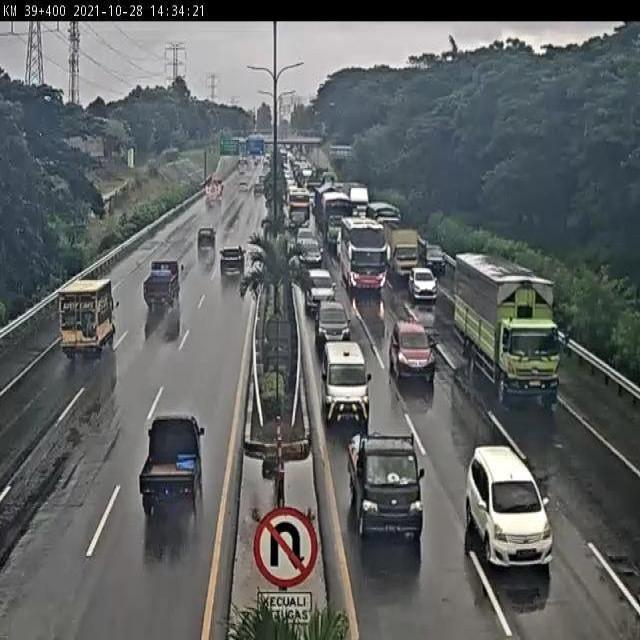car: (460, 441, 559, 572), (350, 432, 426, 544), (139, 411, 205, 513), (318, 341, 371, 431), (389, 318, 435, 390), (317, 292, 344, 337), (409, 268, 438, 307), (305, 260, 332, 301), (218, 245, 245, 284), (196, 228, 217, 257), (297, 239, 318, 267), (292, 220, 309, 240)
truck: (456, 256, 565, 395), (58, 277, 120, 363), (340, 215, 383, 284), (382, 220, 422, 284), (142, 259, 186, 313), (320, 190, 353, 242), (283, 195, 311, 236)
